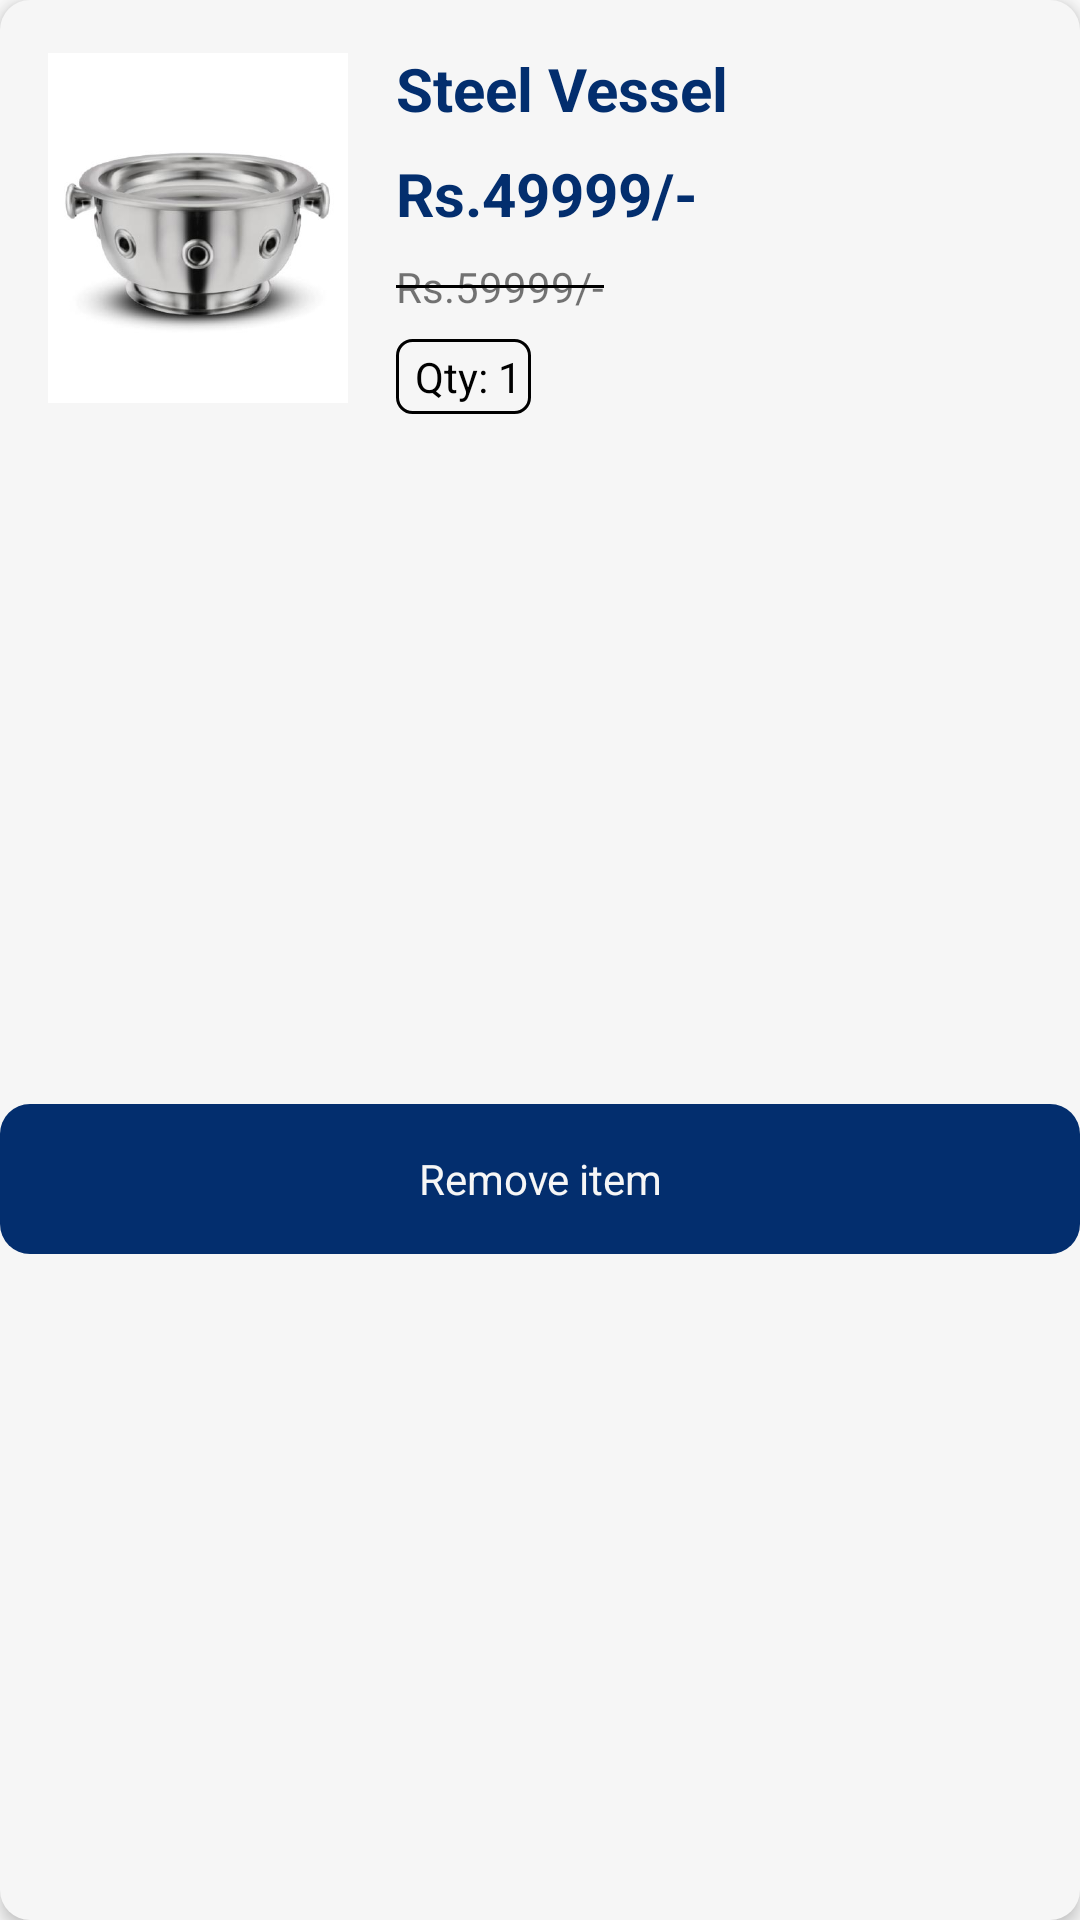

Locate icon controls on the screen. Image size 1080px x 1920px, boxes as [left=x1, top=y1, right=x2, bottom=y2].
steelfour: [left=66, top=153, right=330, bottom=326]
